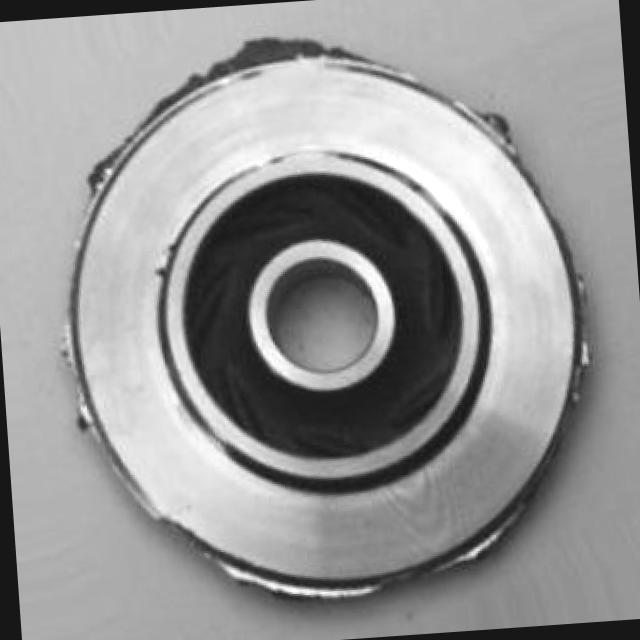Defect: (218, 19, 318, 81)
